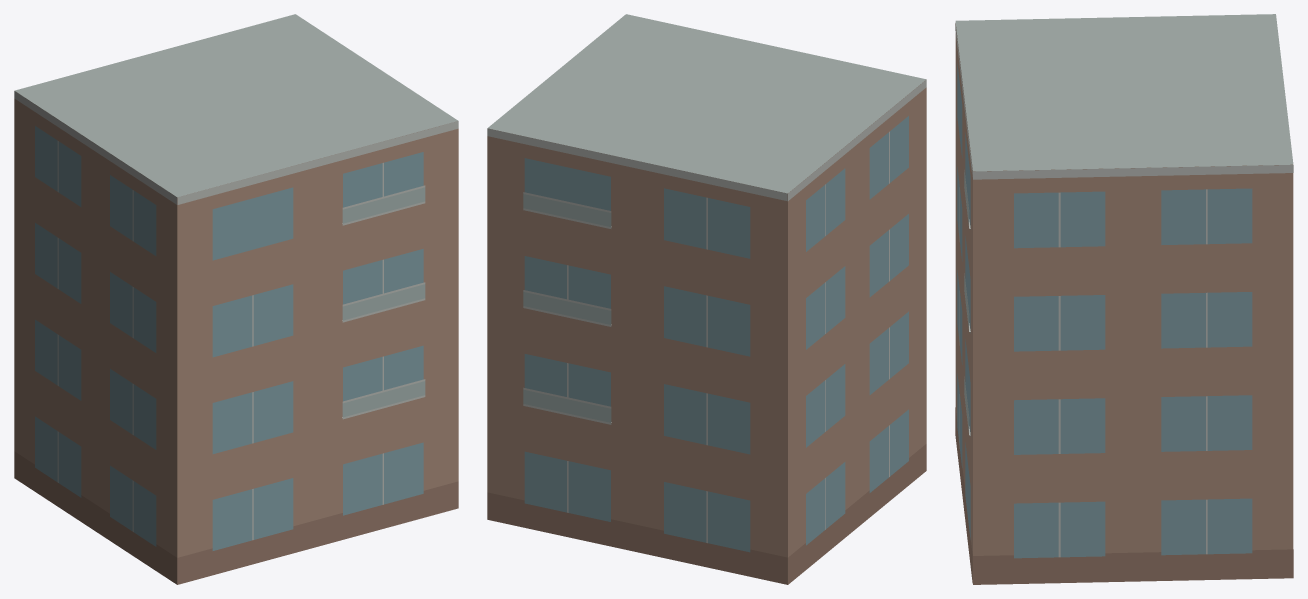
The model's file is residential-0b90aea8-bc17-4f09-ba18-b7165841600d.glb.
3 views of the same model, side by side, from view 1: azimuth 30°, elevation 25°; view 2: azimuth 150°, elevation 25°; view 3: azimuth 270°, elevation 25° (orthographic). The views are drawn at different scales.
Visible parts, largest first — view 1: residential-0b90aea8-bc17-4f09-ba18-b7165841600d.tmp; view 2: residential-0b90aea8-bc17-4f09-ba18-b7165841600d.tmp; view 3: residential-0b90aea8-bc17-4f09-ba18-b7165841600d.tmp.
Boxes of the visible parts, bbox=[...] form: residential-0b90aea8-bc17-4f09-ba18-b7165841600d.tmp: bbox=[14, 14, 458, 584]; residential-0b90aea8-bc17-4f09-ba18-b7165841600d.tmp: bbox=[487, 14, 926, 584]; residential-0b90aea8-bc17-4f09-ba18-b7165841600d.tmp: bbox=[955, 14, 1293, 584].
Size of the model in its own units: 9.97 by 12.2 by 9.05.
